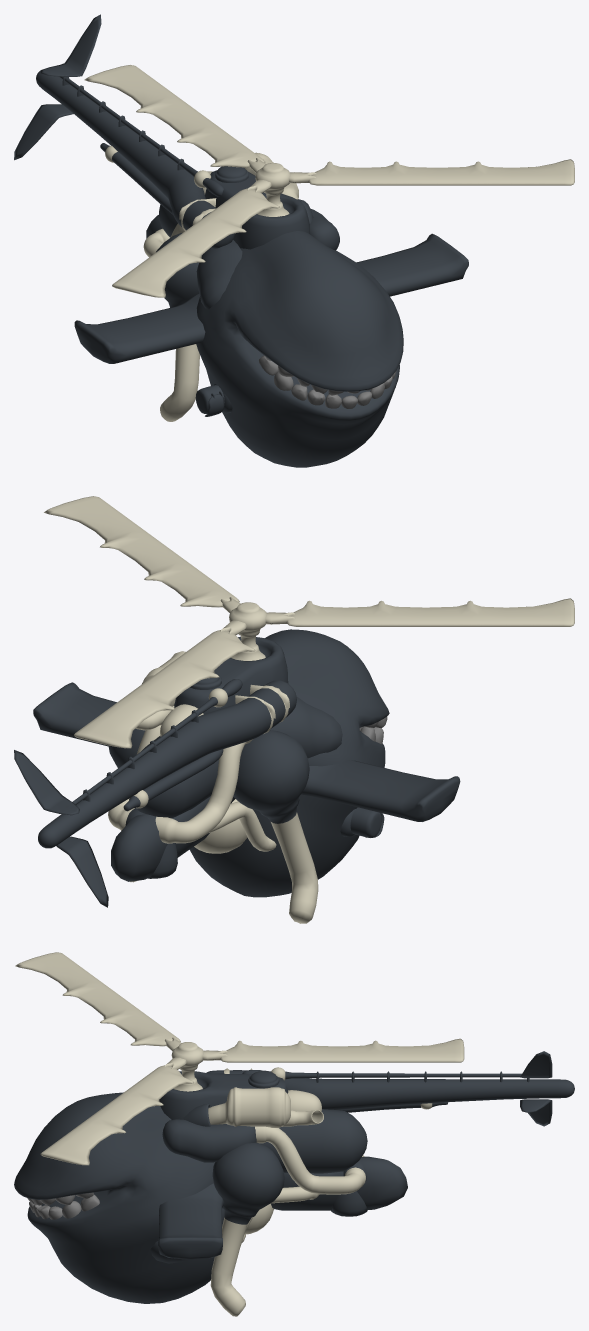
The model's file is Geist_Vertol_Light_Smoothed.obj.
The picture shows the model from 3 angles, top to bottom: view 1: azimuth 30°, elevation 25°; view 2: azimuth 150°, elevation 25°; view 3: azimuth 270°, elevation 25°; orthographic projection. The views are drawn at different scales.
Visible parts, largest first — view 1: Geist_Vertol_Light_Smoothed.obj; view 2: Geist_Vertol_Light_Smoothed.obj; view 3: Geist_Vertol_Light_Smoothed.obj.
Part boxes in pixels (<box>): Geist_Vertol_Light_Smoothed.obj: <box>14,14,574,467</box>; Geist_Vertol_Light_Smoothed.obj: <box>14,496,574,923</box>; Geist_Vertol_Light_Smoothed.obj: <box>14,952,574,1316</box>.
Bounding box in the file's own units: 13.89 × 7.85 × 15.54.
